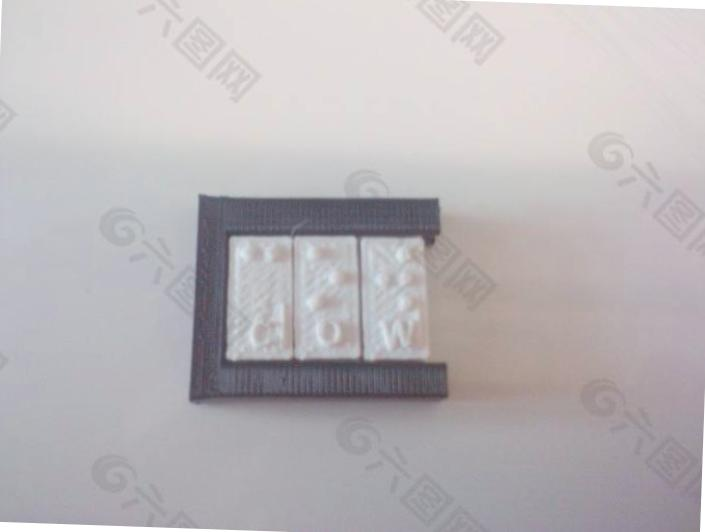Braille: (242, 244, 285, 306), (309, 246, 345, 310), (379, 248, 415, 311)
